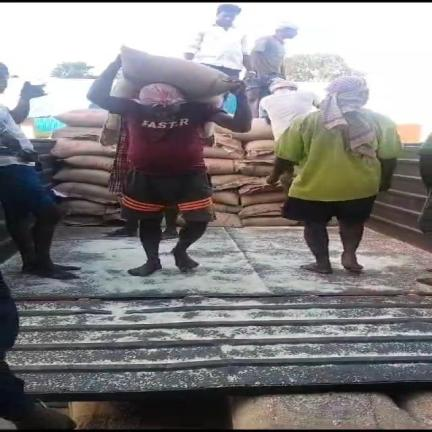Zone-Counting: (88, 47, 250, 276)
